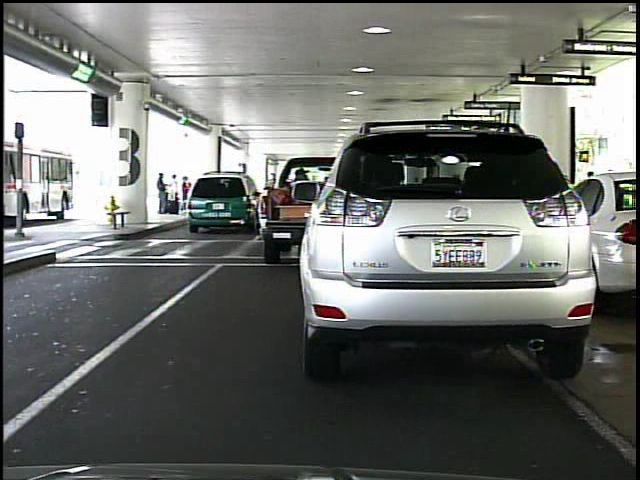person: (153, 165, 173, 217)
